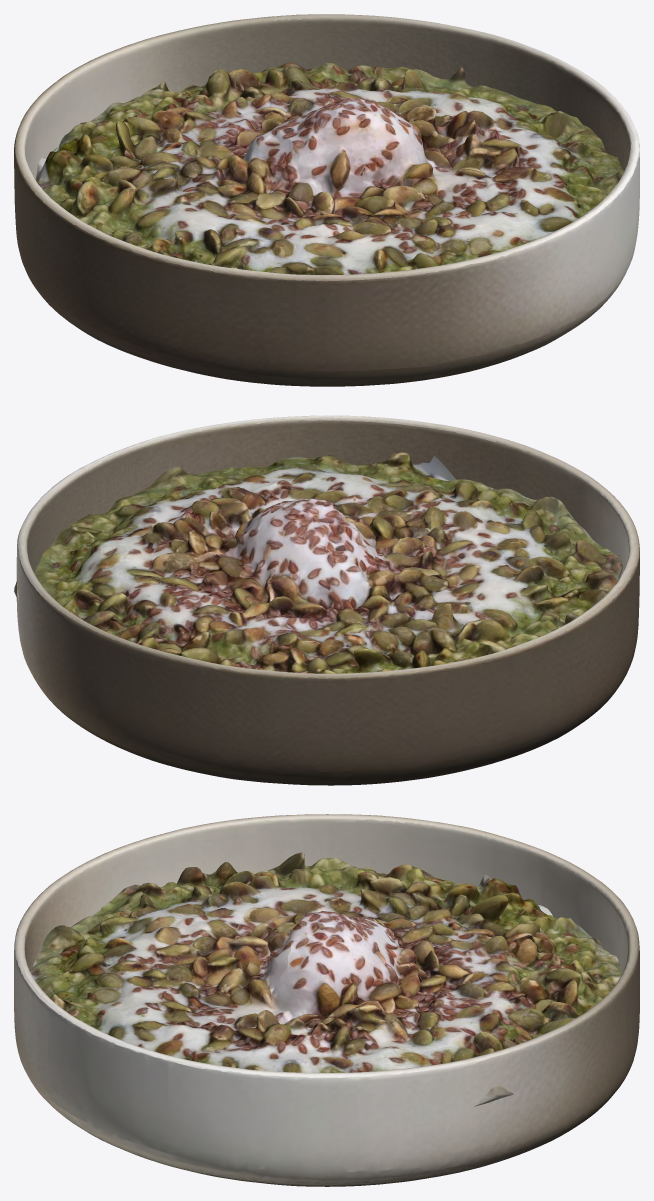
Rendered from green.buckweet.001.glb.
The picture shows the model from 3 angles, top to bottom: view 1: azimuth 30°, elevation 25°; view 2: azimuth 150°, elevation 25°; view 3: azimuth 270°, elevation 25°; orthographic projection.
Visible parts, largest first — view 1: /Root/Scenes/Scene/Object_352/Object_356/Object_357/Submesh_, /Root/Scenes/Scene/Object_352/Object_353/Submesh_0; view 2: /Root/Scenes/Scene/Object_352/Object_356/Object_357/Submesh_, /Root/Scenes/Scene/Object_352/Object_353/Submesh_0; view 3: /Root/Scenes/Scene/Object_352/Object_356/Object_357/Submesh_, /Root/Scenes/Scene/Object_352/Object_353/Submesh_0.
Boxes of the visible parts, left/top/right/bottom form: /Root/Scenes/Scene/Object_352/Object_356/Object_357/Submesh_: left=14, top=14, right=639, bottom=386; /Root/Scenes/Scene/Object_352/Object_353/Submesh_0: left=34, top=62, right=624, bottom=274; /Root/Scenes/Scene/Object_352/Object_356/Object_357/Submesh_: left=16, top=415, right=639, bottom=785; /Root/Scenes/Scene/Object_352/Object_353/Submesh_0: left=14, top=451, right=622, bottom=673; /Root/Scenes/Scene/Object_352/Object_356/Object_357/Submesh_: left=14, top=814, right=639, bottom=1186; /Root/Scenes/Scene/Object_352/Object_353/Submesh_0: left=30, top=852, right=622, bottom=1106.
Bounding box in the file's own units: 0.2053 × 0.0595 × 0.2052.
Materials: 2 (2 with a texture image).
